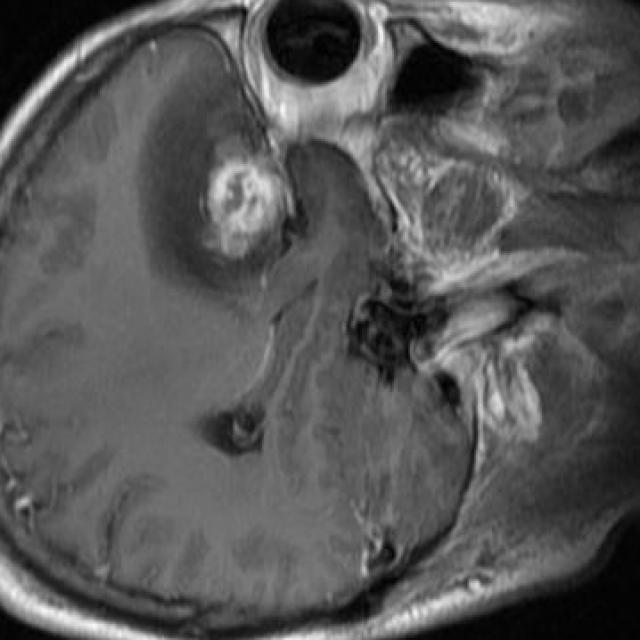meningioma: (207, 143, 285, 258)
